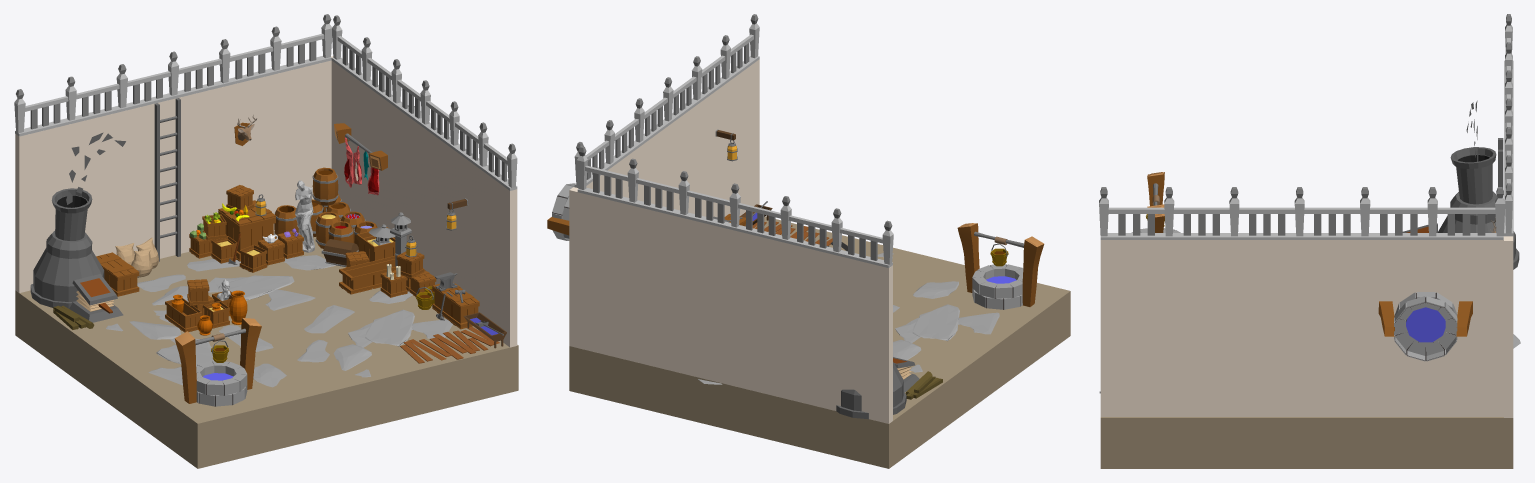
The model's file is Props.fbx.
3 renders of one model, left to right at view 1: azimuth 30°, elevation 25°; view 2: azimuth 150°, elevation 25°; view 3: azimuth 270°, elevation 25°, orthographic. The views are drawn at different scales.
Visible parts, largest first — view 1: Cube, Cube (1), Cube (2), Building_Facade_Modular_Chimney_Forge_Oven_01, Rock_Chunks_Large_01 (3), Prop_Well_01, Rock_Chunks_Large_01 (4), Prop_Handrail_Stone_05 (2), Prop_Handrail_Stone_05, Prop_Handrail_Stone_05 (1), Rock_Chunks_Large_01 (5), Prop_Handrail_Stone_05 (6) (+26 smaller); view 2: Cube (1), Cube, Cube (2), Prop_Well_01, Rock_Chunks_Large_01 (5), Prop_Handrail_Stone_05, Prop_Handrail_Stone_05 (1), Prop_Handrail_Stone_05 (2), Prop_Handrail_Stone_05 (6), Prop_Handrail_Stone_05 (5), Prop_Handrail_Stone_05 (4), Building_Facade_Modular_Chimney_Forge_Oven_01 (+1 smaller); view 3: Cube (2), Cube, Prop_Well_01 (1), Prop_Handrail_Stone_05 (4), Prop_Handrail_Stone_05 (6), Prop_Handrail_Stone_05 (5), Building_Facade_Modular_Chimney_Forge_Oven_01, Cube (1), Prop_Handrail_Stone_05 (2), Prop_Well_01, Prop_Handrail_Stone_05, Prop_Handrail_Stone_05 (1).
Part boxes in pixels (bbox=[...]): Cube: bbox=[15, 231, 518, 468]; Cube (1): bbox=[15, 56, 333, 292]; Cube (2): bbox=[331, 61, 517, 347]; Building_Facade_Modular_Chimney_Forge_Oven_01: bbox=[30, 188, 104, 308]; Rock_Chunks_Large_01 (3): bbox=[297, 290, 452, 377]; Prop_Well_01: bbox=[175, 318, 261, 406]; Rock_Chunks_Large_01 (4): bbox=[137, 255, 335, 316]; Prop_Handrail_Stone_05 (2): bbox=[222, 14, 332, 86]; Prop_Handrail_Stone_05: bbox=[14, 64, 126, 136]; Prop_Handrail_Stone_05 (1): bbox=[120, 39, 228, 111]; Rock_Chunks_Large_01 (5): bbox=[106, 313, 286, 387]; Prop_Handrail_Stone_05 (6): bbox=[449, 102, 517, 190]; Cube (1): bbox=[569, 187, 892, 423]; Cube: bbox=[569, 216, 1070, 468]; Cube (2): bbox=[573, 59, 759, 217]; Prop_Well_01: bbox=[957, 223, 1044, 309]; Rock_Chunks_Large_01 (5): bbox=[893, 281, 999, 372]; Prop_Handrail_Stone_05: bbox=[780, 196, 893, 267]; Prop_Handrail_Stone_05 (1): bbox=[678, 171, 782, 241]; Prop_Handrail_Stone_05 (2): bbox=[576, 146, 680, 216]; Prop_Handrail_Stone_05 (6): bbox=[697, 14, 759, 102]; Prop_Handrail_Stone_05 (5): bbox=[640, 56, 701, 144]; Prop_Handrail_Stone_05 (4): bbox=[574, 98, 644, 187]; Building_Facade_Modular_Chimney_Forge_Oven_01: bbox=[836, 362, 906, 419]; Cube (2): bbox=[1100, 236, 1508, 416]; Cube: bbox=[1100, 417, 1513, 468]; Prop_Well_01 (1): bbox=[1378, 292, 1472, 361]; Prop_Handrail_Stone_05 (4): bbox=[1360, 187, 1505, 239]; Prop_Handrail_Stone_05 (6): bbox=[1099, 187, 1232, 239]; Prop_Handrail_Stone_05 (5): bbox=[1229, 187, 1362, 239]; Building_Facade_Modular_Chimney_Forge_Oven_01: bbox=[1438, 147, 1519, 269]; Cube (1): bbox=[1504, 236, 1513, 417]; Prop_Handrail_Stone_05 (2): bbox=[1504, 127, 1513, 236]; Prop_Well_01: bbox=[1131, 172, 1180, 232]; Prop_Handrail_Stone_05: bbox=[1504, 14, 1513, 120]; Prop_Handrail_Stone_05 (1): bbox=[1504, 71, 1513, 176].
Bounding box in the file's own units: 12.07 × 7.79 × 10.69.
